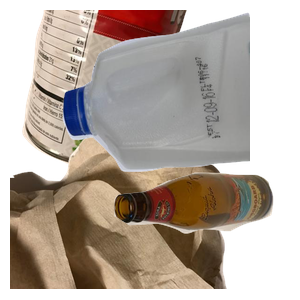glass: (111, 170, 300, 300)
metal: (20, 10, 199, 172)
plastic: (60, 10, 300, 175)
trash: (10, 120, 229, 300)
